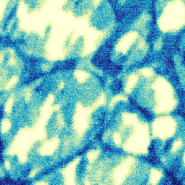hole_empty: (154, 6, 185, 34)
hole_filled: (0, 68, 107, 178), (3, 10, 118, 59), (102, 96, 153, 156), (123, 67, 180, 117), (109, 30, 153, 70), (0, 44, 26, 92)
